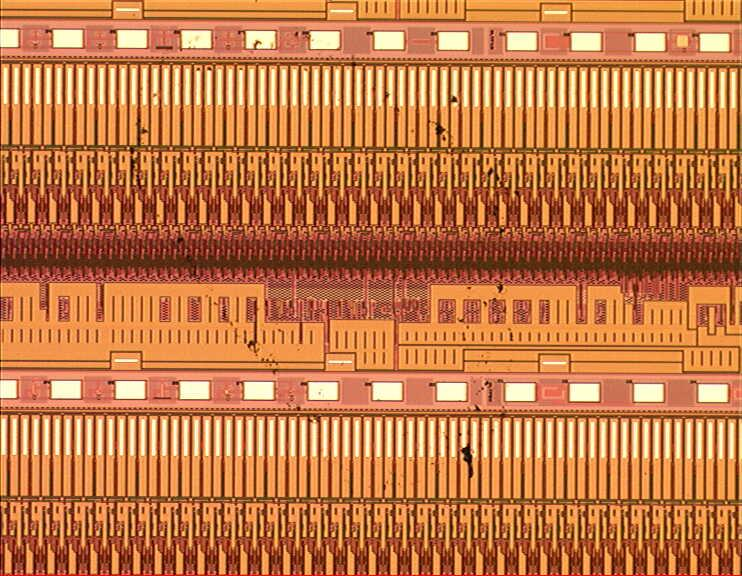PO CONTAMINATION: (126, 27, 534, 481)
